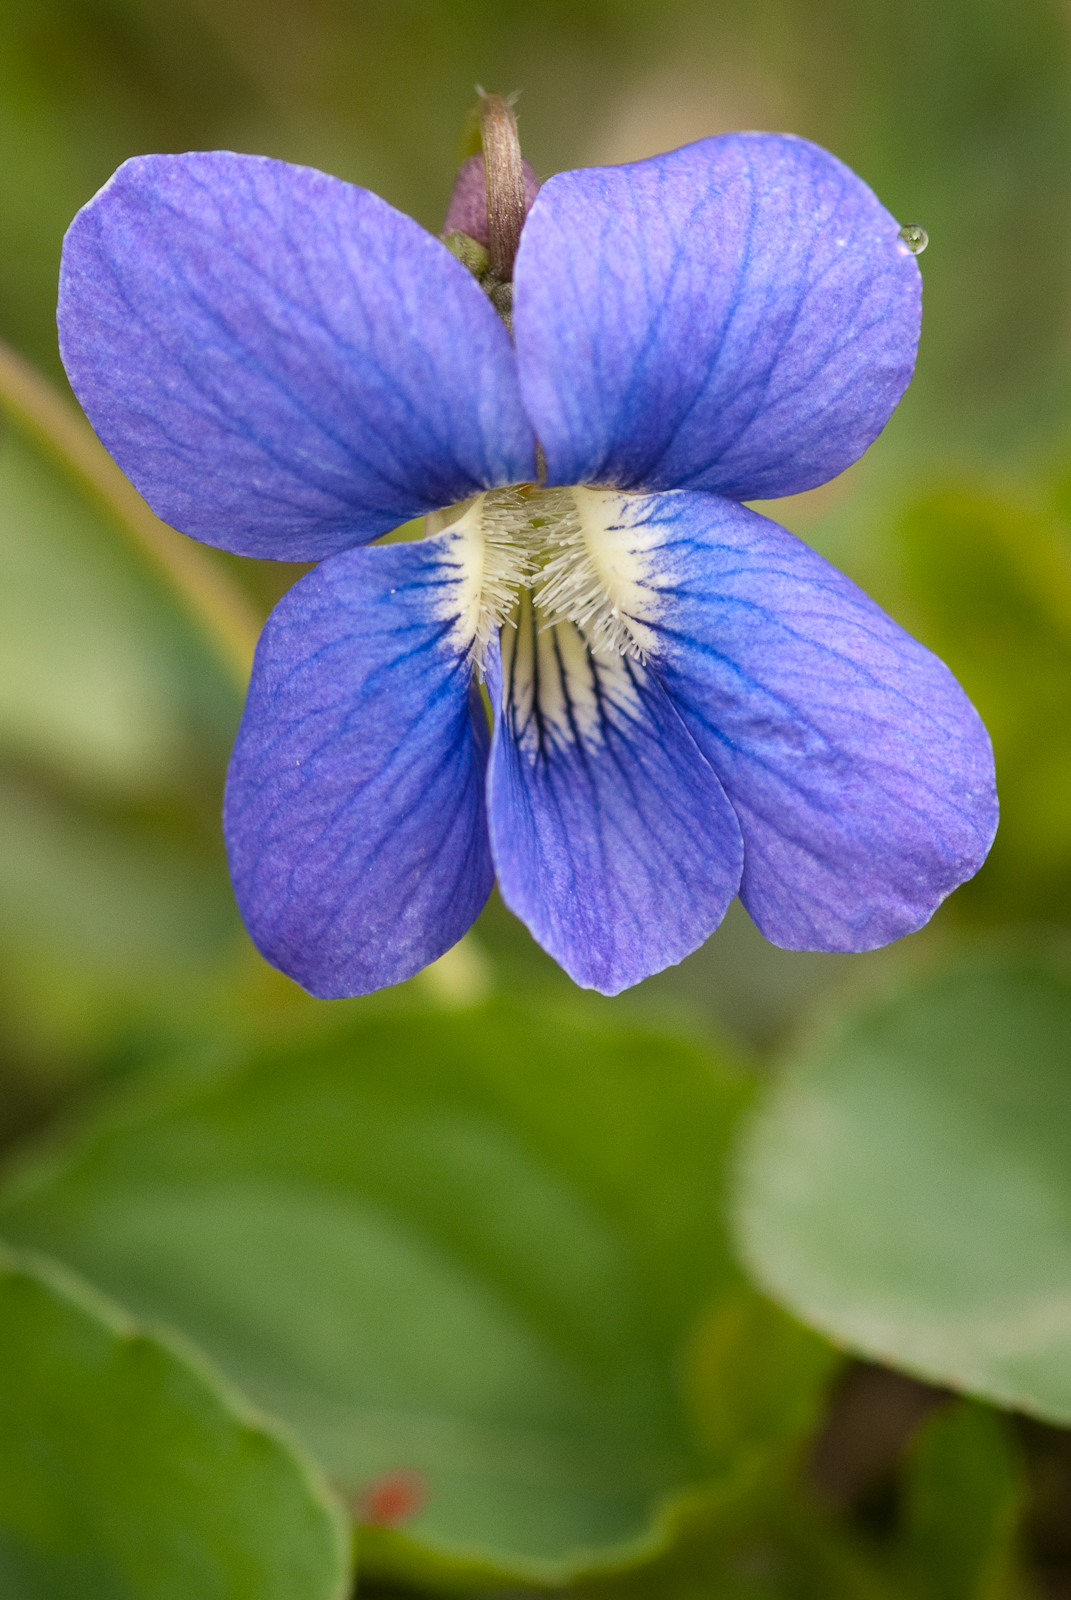violet: (49, 133, 996, 977)
